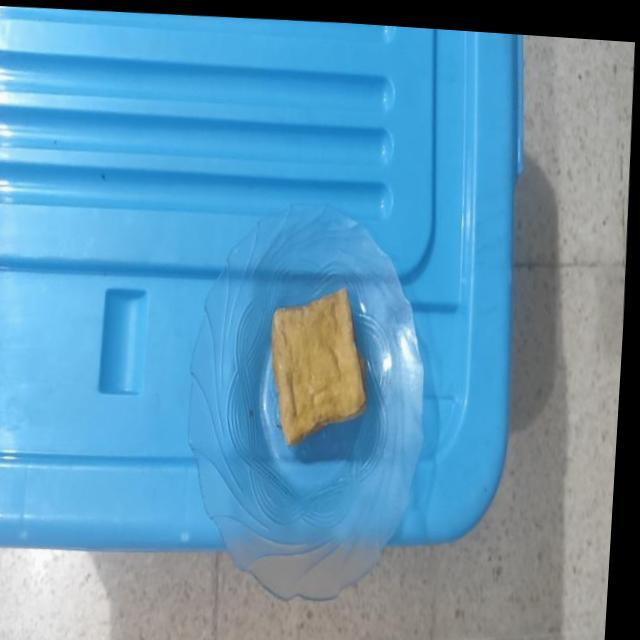tahu_goreng: (272, 288, 366, 444)
